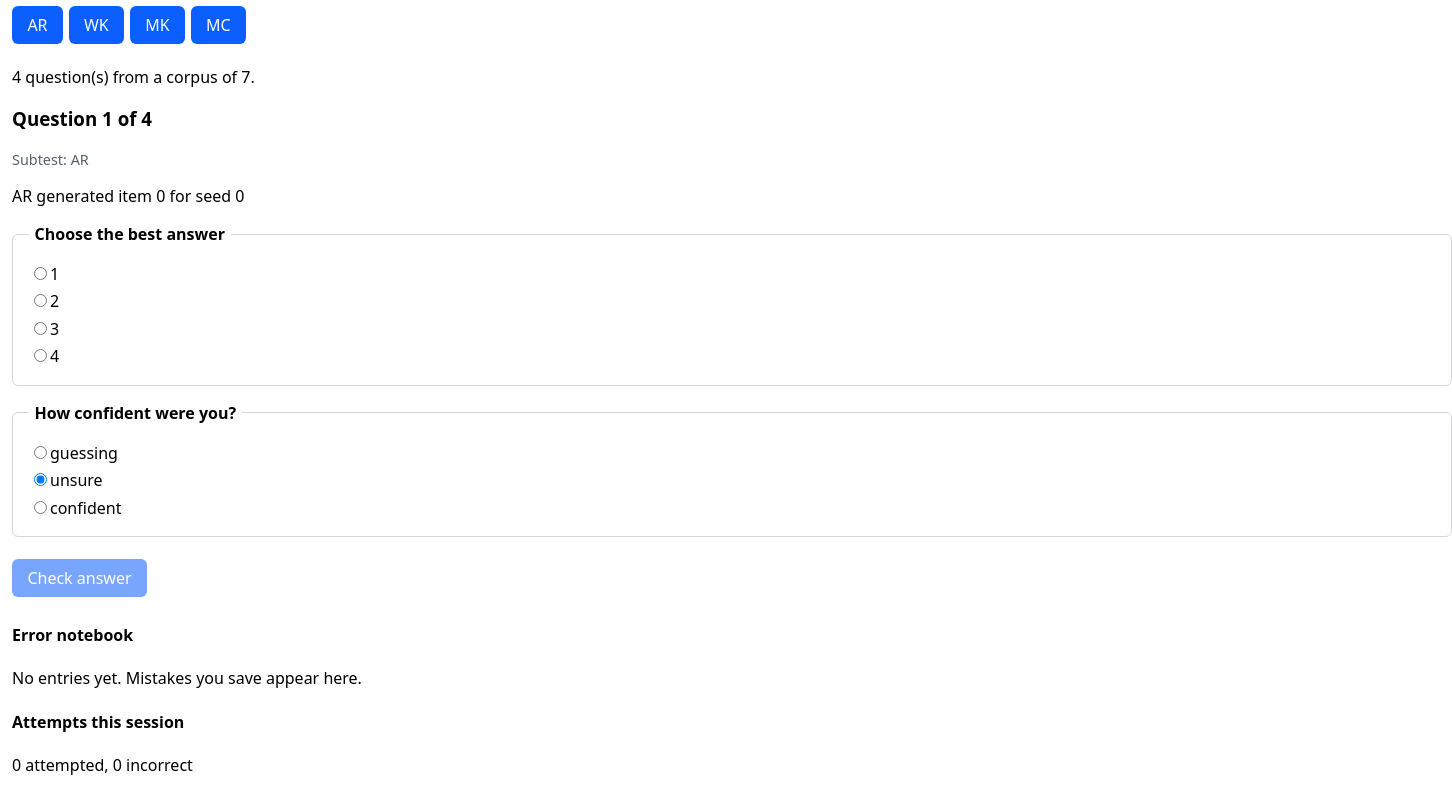
PracticeContentView › offers an ingested subtest once the device holds items for it
The width and height of the screenshot is (1452, 810).
Click the button "WK". click: (96, 25)
box: left=69, top=6, right=124, bottom=44
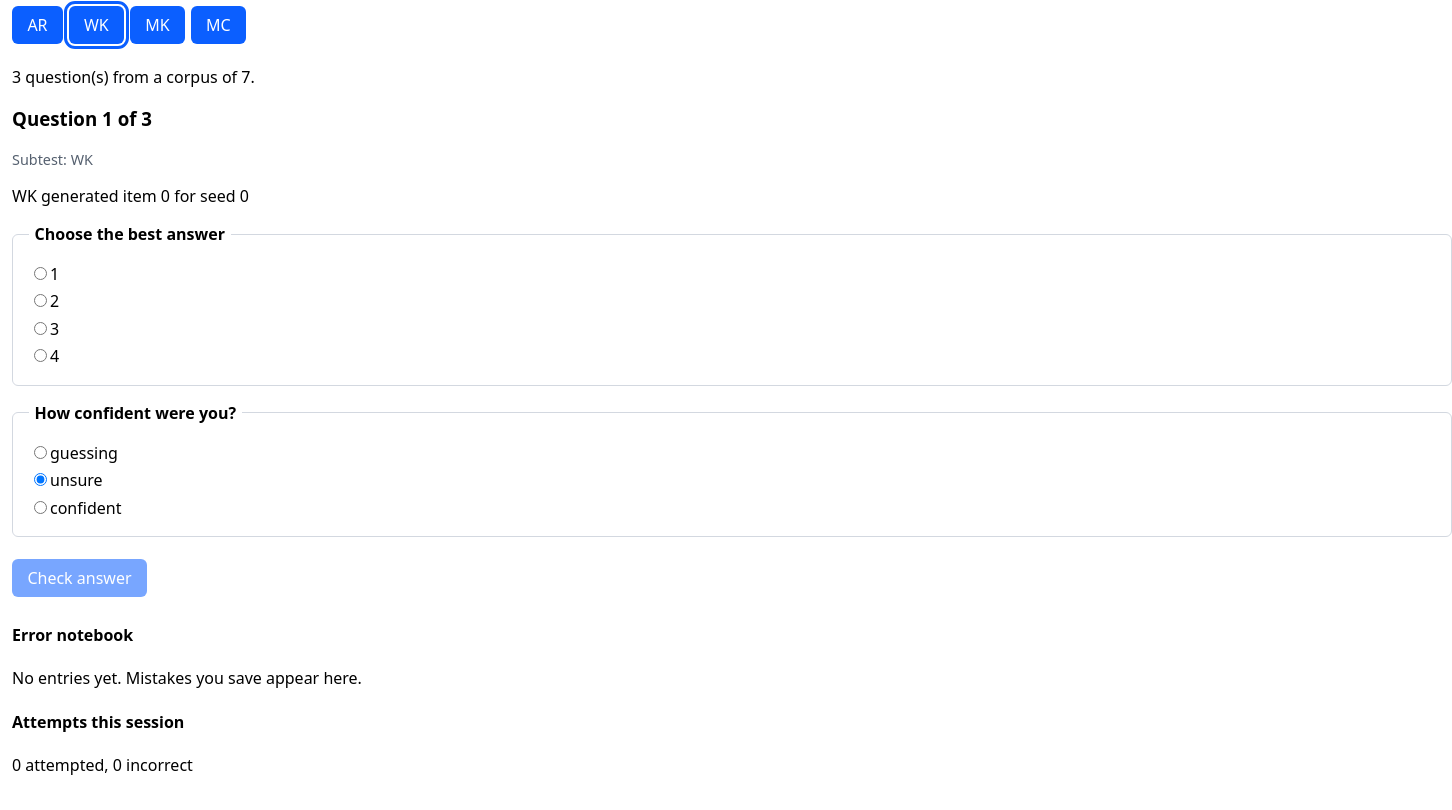
Expected: the text "WK generated item 0 for seed 0" is shown, left=12, top=185, right=249, bottom=207
Expected: the text "Subtest: WK" is shown, left=12, top=150, right=93, bottom=169
